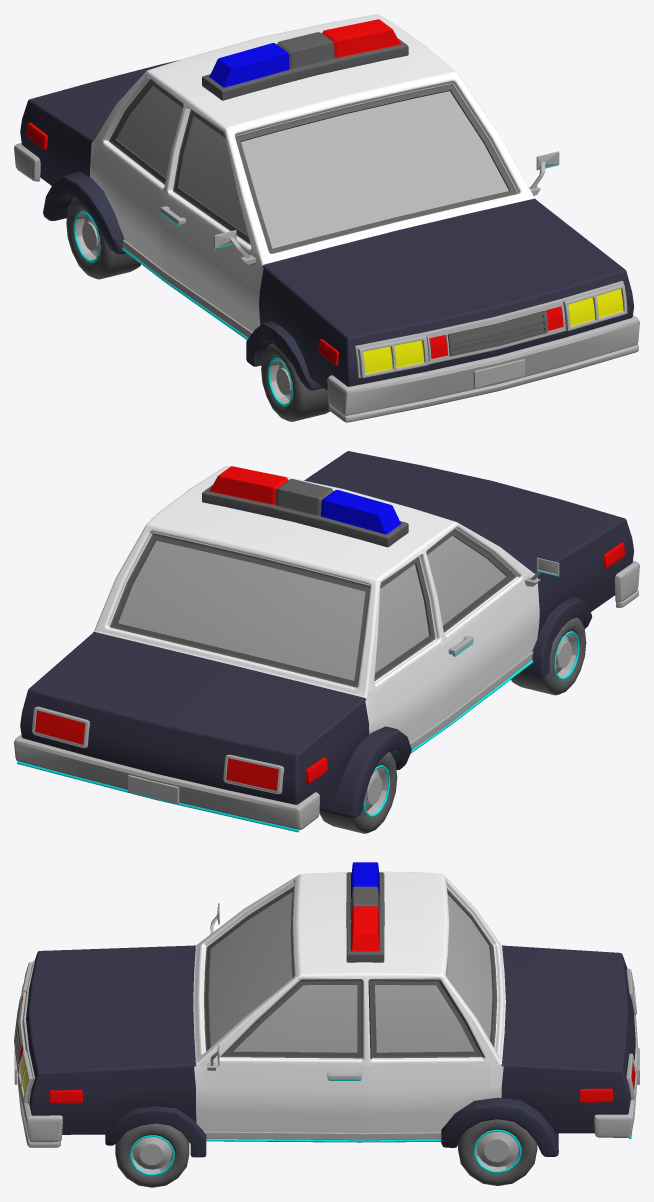
Rendered from police_new.fbx.
The picture shows the model from 3 angles, top to bottom: view 1: azimuth 30°, elevation 25°; view 2: azimuth 150°, elevation 25°; view 3: azimuth 270°, elevation 25°; orthographic projection. The views are drawn at different scales.
Visible parts, largest first — view 1: car, wheel_2, wheel; view 2: car, wheel_2, wheel; view 3: car, wheel_3, wheel_4.
Boxes of the visible parts, <box> form: car: <box>14,14,639,422</box>; wheel_2: <box>261,343,329,421</box>; wheel: <box>66,197,140,279</box>; car: <box>14,451,639,832</box>; wheel_2: <box>511,617,586,695</box>; wheel: <box>319,752,397,833</box>; car: <box>14,862,639,1157</box>; wheel_3: <box>458,1119,537,1185</box>; wheel_4: <box>115,1123,189,1187</box>.
Size of the model in its own units: 722 by 513 by 1259.
